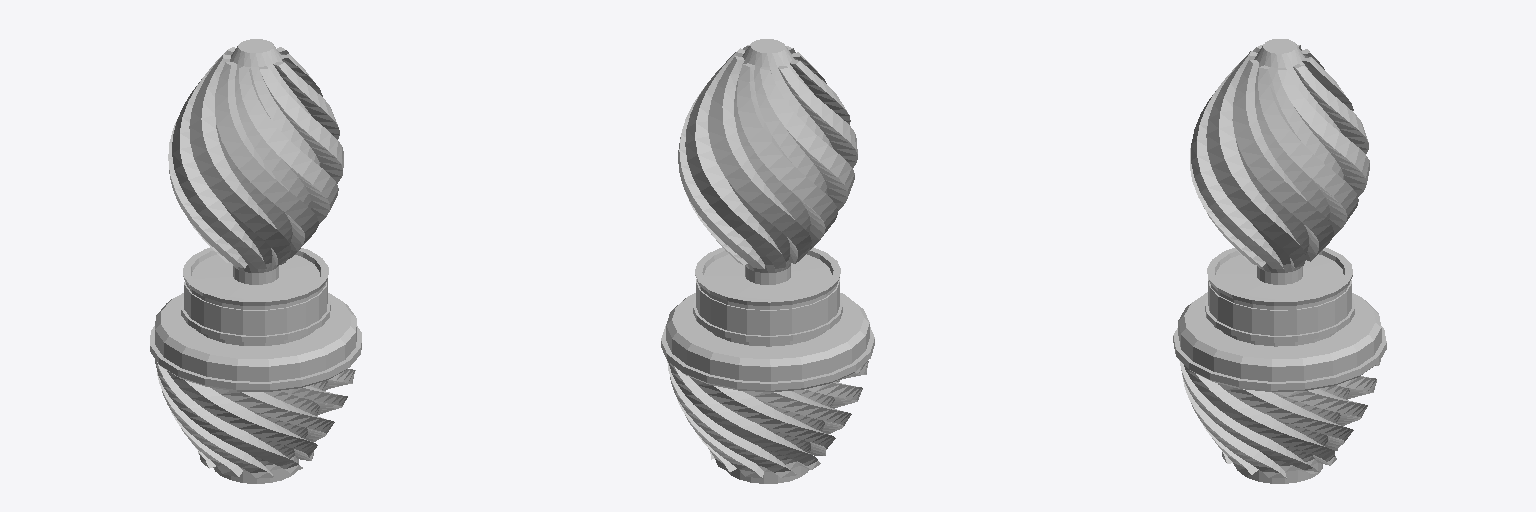
The model's file is SPIRAL.obj.
3 views of the same model, side by side, from view 1: azimuth 30°, elevation 25°; view 2: azimuth 150°, elevation 25°; view 3: azimuth 270°, elevation 25° (orthographic).
Parts seen in each view (by area): view 1: default; view 2: default; view 3: default.
Part boxes in pixels (x1,y1,x2,y2): default: (150,39,361,483); default: (661,39,874,483); default: (1173,39,1386,483).
Bounding box in the file's own units: 1.63 × 3.53 × 1.63.